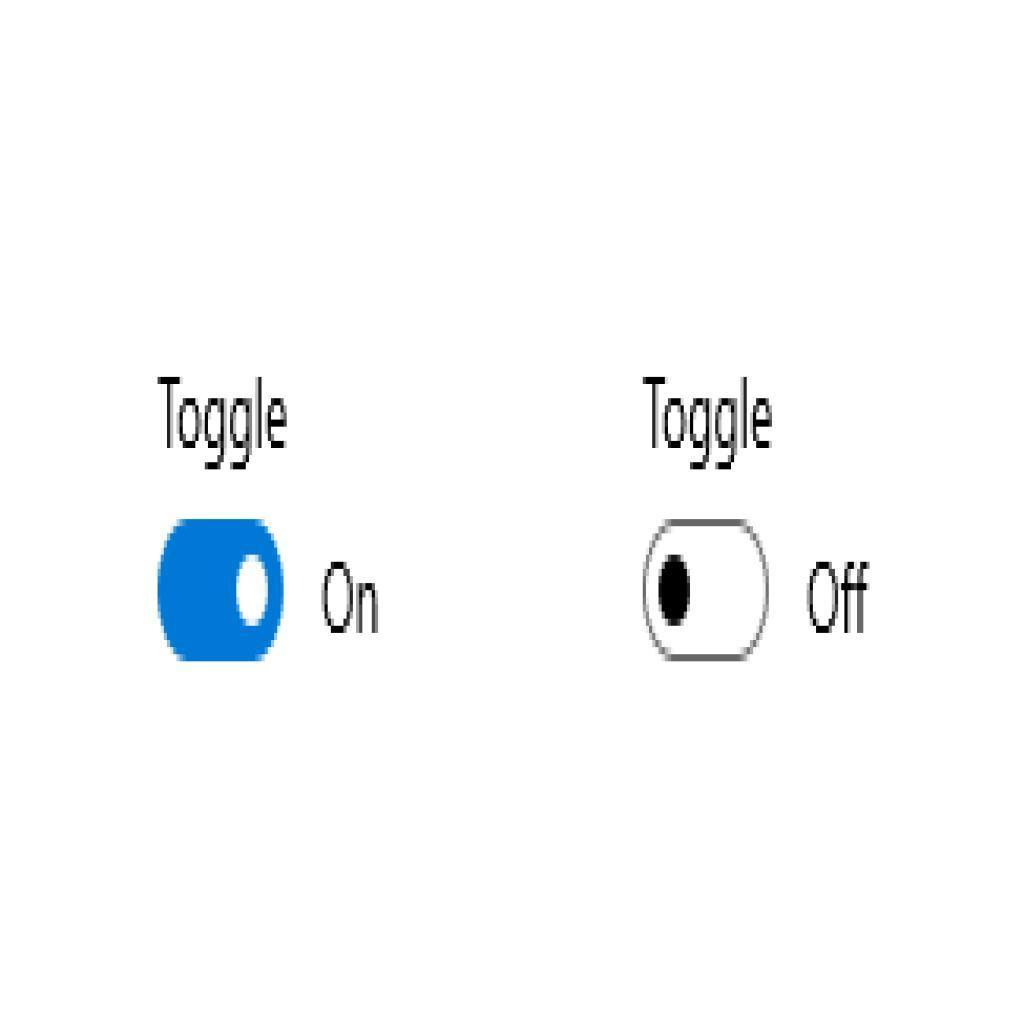switch: (153, 517, 288, 668), (640, 518, 770, 665)
